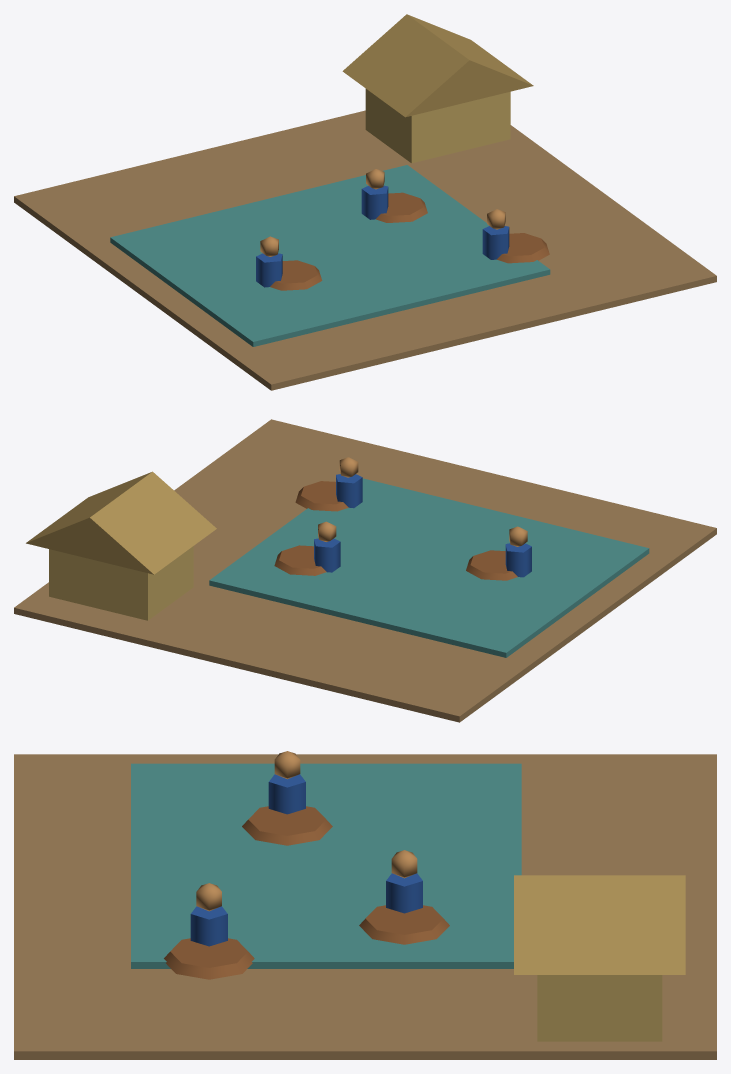
Rendered from building_pendulang.glb.
3 renders of one model, top to bottom at view 1: azimuth 30°, elevation 25°; view 2: azimuth 150°, elevation 25°; view 3: azimuth 270°, elevation 25°, orthographic. The views are drawn at different scales.
Parts seen in each view (by area): view 1: building_pendulang; view 2: building_pendulang; view 3: building_pendulang.
Boxes of the visible parts, bbox=[...] form: building_pendulang: bbox=[14, 14, 716, 390]; building_pendulang: bbox=[14, 419, 716, 722]; building_pendulang: bbox=[14, 751, 716, 1059].
Size of the model in its own units: 0.9 by 0.2 by 0.9.
